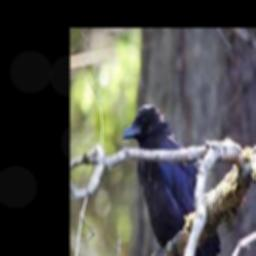Crow: (123, 103, 229, 256)
